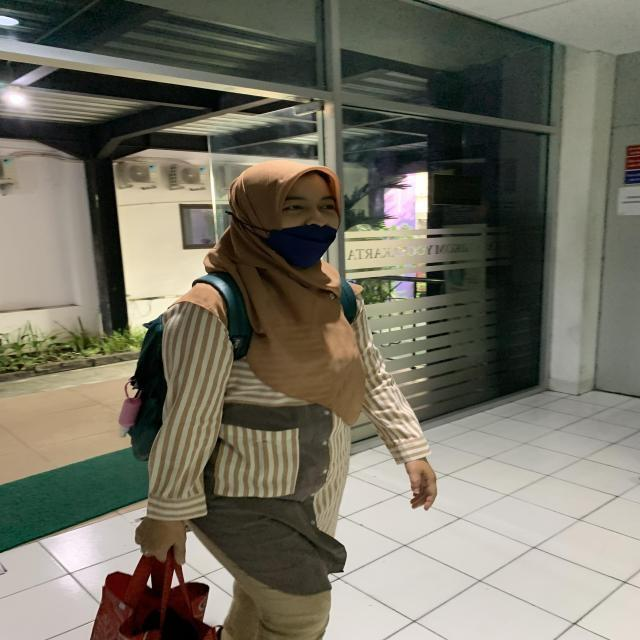hairnet: (225, 160, 352, 268)
